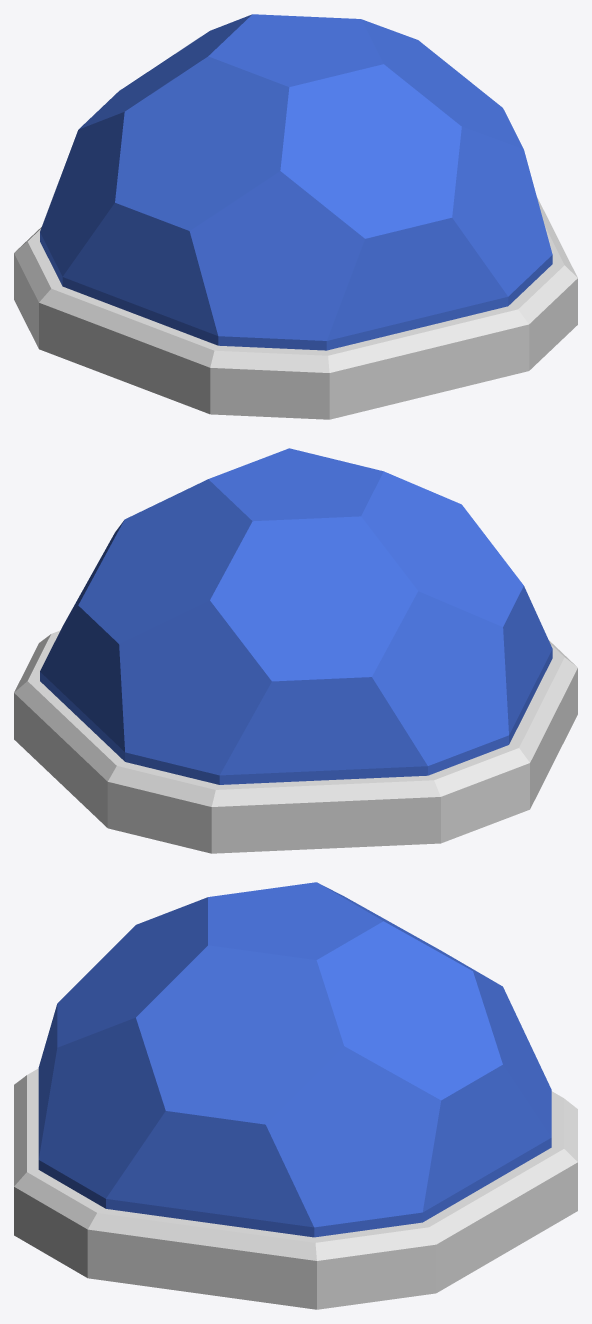
The model's file is BarrierDome_Ver2.fbx.
3 renders of one model, top to bottom at view 1: azimuth 30°, elevation 25°; view 2: azimuth 150°, elevation 25°; view 3: azimuth 270°, elevation 25°, orthographic. The views are drawn at different scales.
Visible parts, largest first — view 1: Barrier, Base; view 2: Barrier, Base; view 3: Barrier, Base.
Part boxes in pixels (x1,y1,x2,y2): Barrier: (40, 14, 552, 350); Base: (14, 197, 577, 419); Barrier: (40, 448, 552, 784); Base: (14, 630, 577, 853); Barrier: (38, 882, 551, 1237); Base: (14, 1068, 577, 1309).
Bounding box in the file's own units: 882 × 432 × 839.
